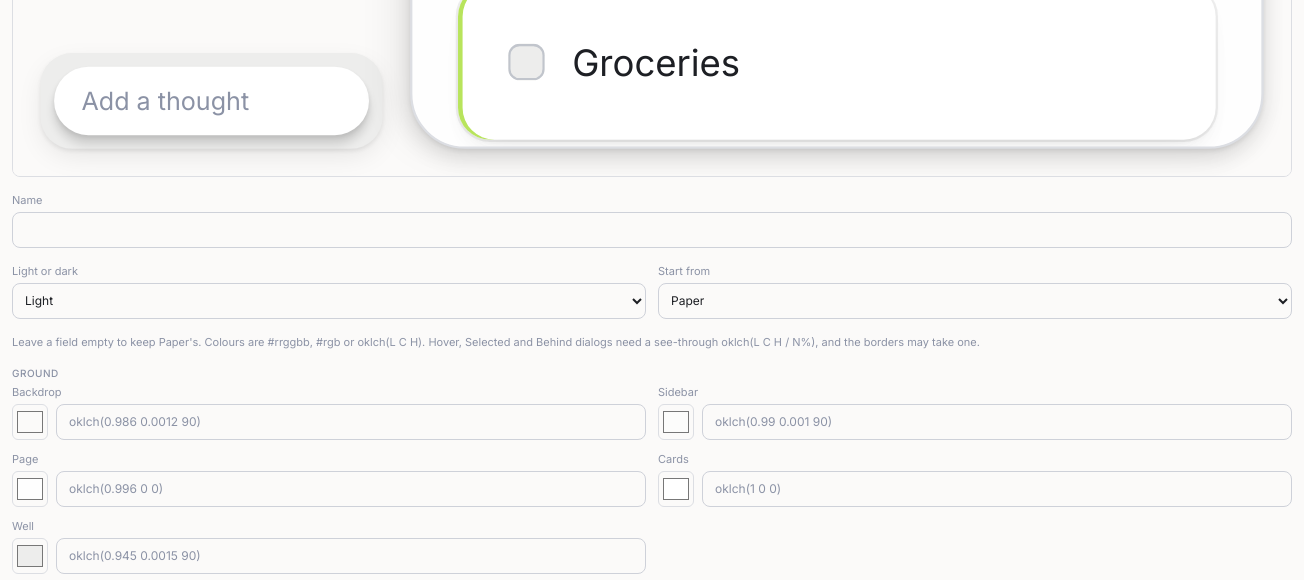
Scenario: ThemeBuilder › says what is wrong with a field and will not save it
The image size is (1304, 580).
(page scrolled)
In the field with test id "theme-name": coordinates (652, 230) [12, 212, 1292, 248], type "Bad"
(page scrolled)
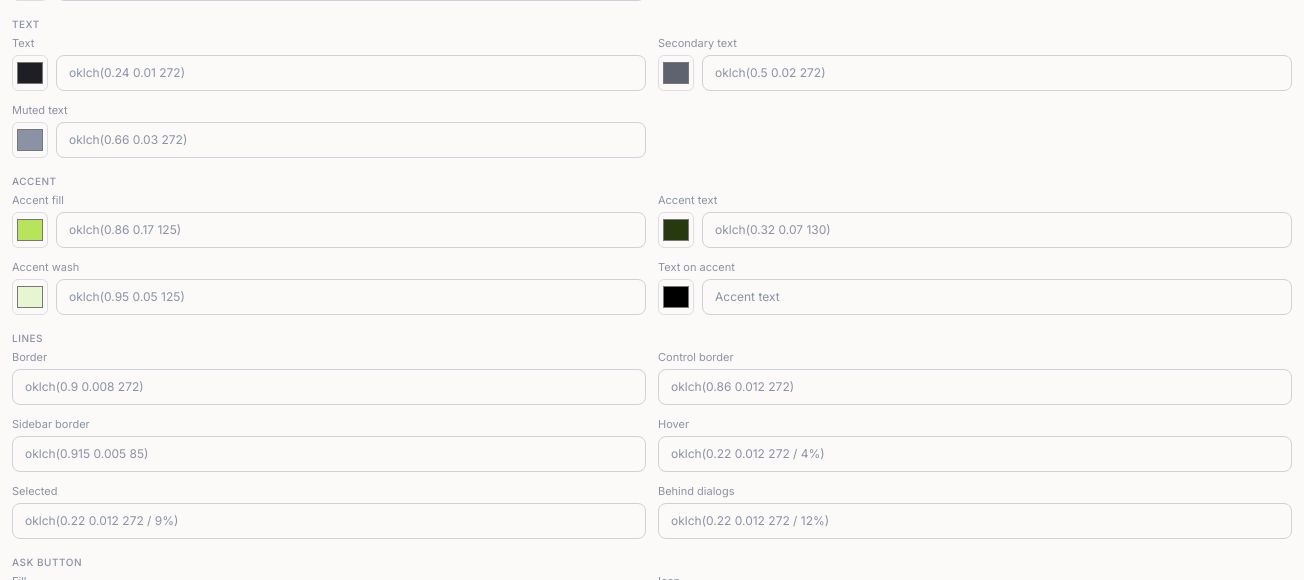
In the field with test id "theme-field-limeSolid": coordinates (351, 230) [56, 212, 646, 248], type "oklch(0.8 0.1 90 / 50%)"
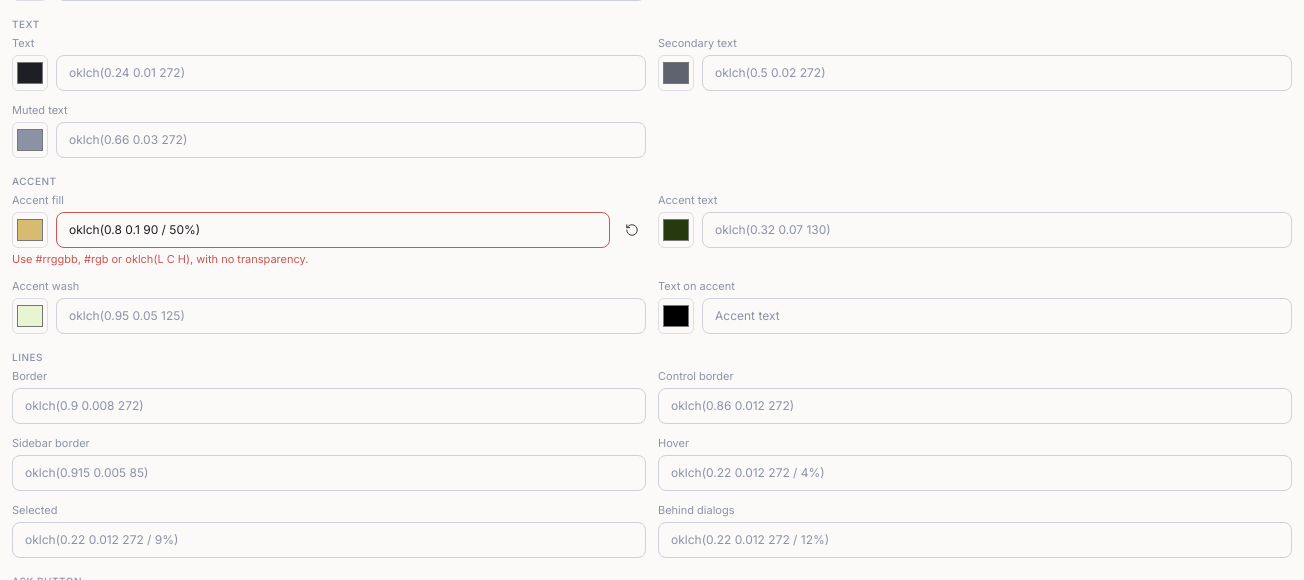
Expected: the text "Use #rrggbb, #rgb or oklch(L C H), with no transparency." is shown, [12, 252, 308, 266]
In the field with test id "theme-field-scrim": coordinates (975, 540) [658, 522, 1292, 558], type "#000000"
(page scrolled)
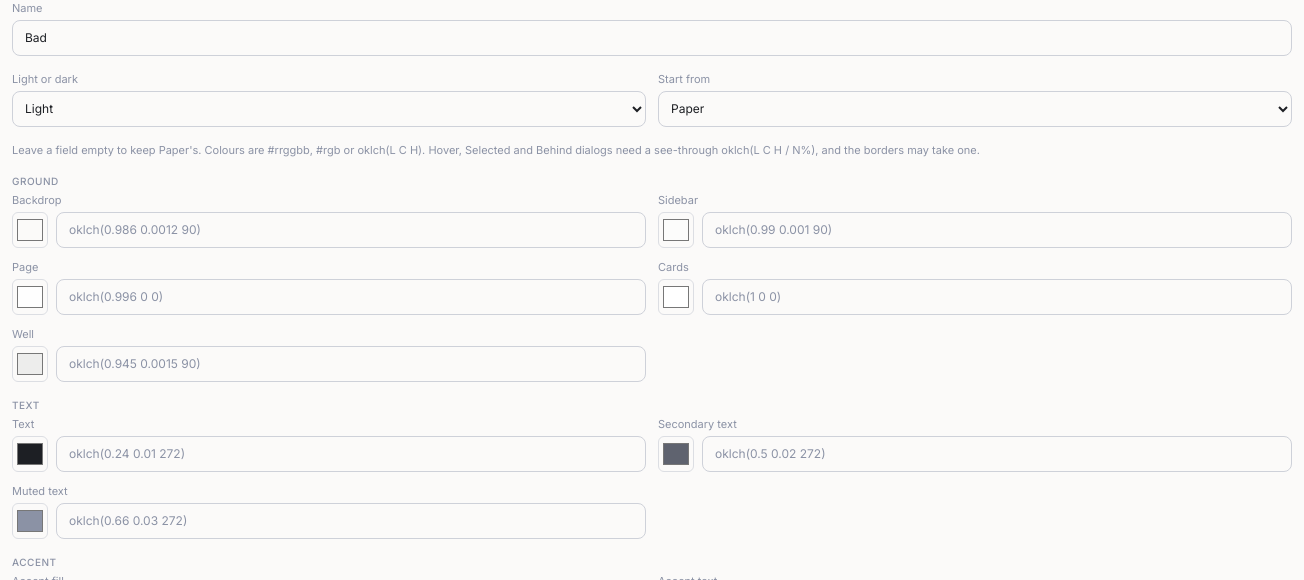
In the field with test id "theme-field-paper1": coordinates (997, 230) [702, 212, 1292, 248], type "url(x)"
(page scrolled)
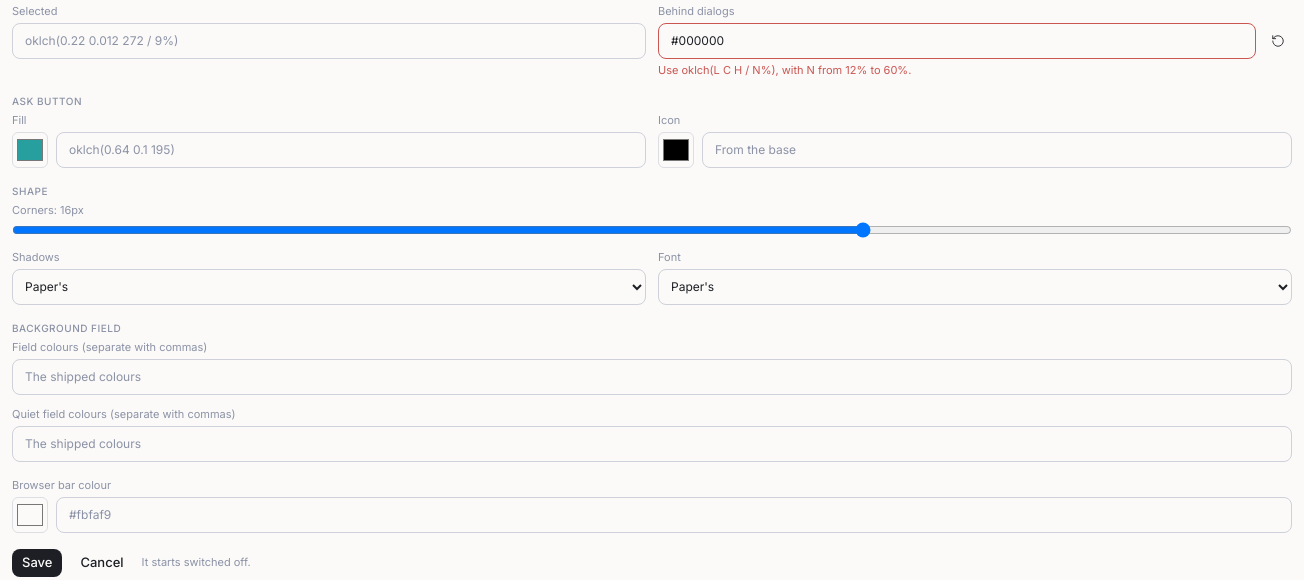
Click the button with test id "theme-save": coordinates (37, 563) [12, 549, 62, 577]
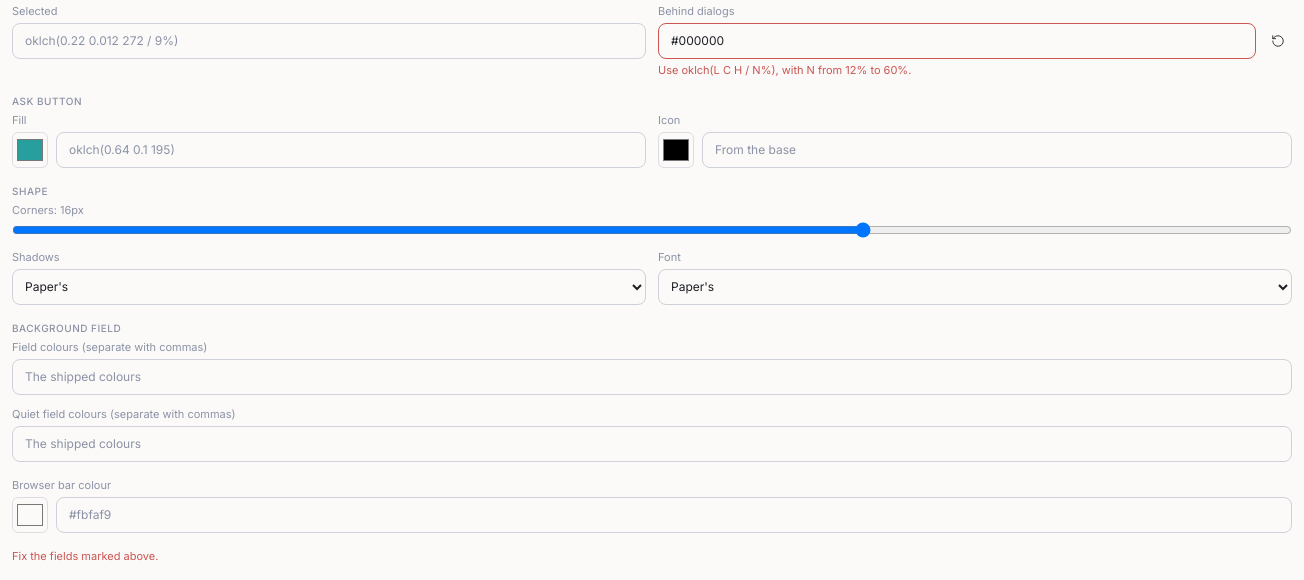
Expected: the message "Fix the fields marked above." is shown, [12, 549, 158, 563]
